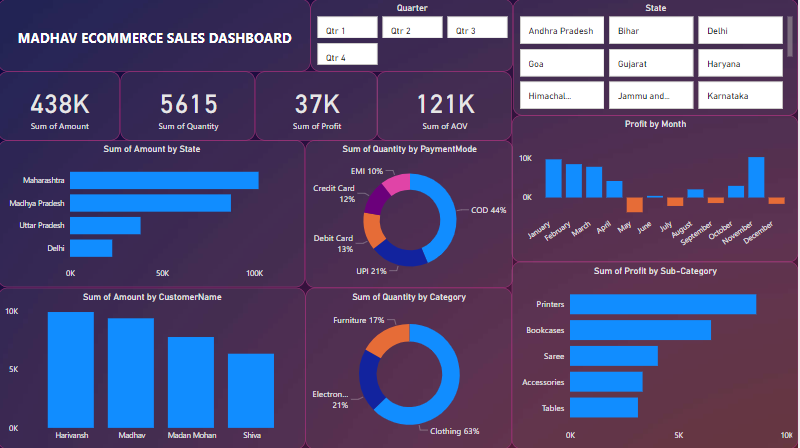

What the dashboard file says about the page in this screenshot:
{"tool":"powerbi","page":{"name":"Page 1","canvas":[1280,720],"ordinal":0},"visuals":[{"type":"textbox","box":[0,0,500,116],"z":0},{"type":"columnChart","title":"Profit by Month","fields":{"Category":["Orders.Order Date.Variation.Date Hierarchy.Month"],"Y":["Details.Profit"]},"box":[821.2,185,458.8,235],"z":1000},{"type":"barChart","fields":{"Category":["Details.Sub-Category"],"Y":["Details.Profit"]},"box":[821.7,420,458.3,300],"z":2000},{"type":"donutChart","fields":{"Y":["Details.Quantity"],"Category":["Details.PaymentMode"]},"box":[492,226,332,236],"z":3000},{"type":"donutChart","fields":{"Category":["Details.Category"],"Y":["Details.Quantity"]},"box":[492,462,330,258],"z":4000},{"type":"card","fields":{"Values":["Details.Amount"]},"box":[0,115,195,110],"z":5000},{"type":"card","fields":{"Values":["Details.Quantity"]},"box":[195,115,215,110],"z":6000},{"type":"card","fields":{"Values":["Details.Profit"]},"box":[411.7,115,195,110],"z":7000},{"type":"card","fields":{"Values":["Details.AOV"]},"box":[606,116,216,110],"z":8000},{"type":"barChart","fields":{"Y":["Details.Amount"],"Category":["Orders.State"]},"box":[0,226.2,491.2,235],"z":9000},{"type":"columnChart","fields":{"Category":["Orders.CustomerName"],"Y":["Details.Amount"]},"box":[0,462,492,258],"z":10000},{"type":"advancedSlicerVisual","fields":{"Values":["Orders.Order Date.Variation.Date Hierarchy.Quarter"]},"box":[500,0,324,116],"z":11000},{"type":"advancedSlicerVisual","fields":{"Values":["Orders.State"]},"box":[824,0,456,186],"z":12000}]}

Visuals, with their boxes in screenshot pixels (x1, y1, x2, y2), scaled from the page's 1280x720 canvas onto the 800x448 screenshot:
textbox: bbox=(0, 0, 312, 72)
"Profit by Month" columnChart: bbox=(513, 115, 799, 261)
barChart - Details.Sub-Category x Details.Profit: bbox=(514, 261, 799, 447)
donutChart - Details.Quantity x Details.PaymentMode: bbox=(308, 141, 515, 287)
donutChart - Details.Category x Details.Quantity: bbox=(308, 287, 514, 447)
card - Details.Amount: bbox=(0, 72, 122, 140)
card - Details.Quantity: bbox=(122, 72, 256, 140)
card - Details.Profit: bbox=(257, 72, 379, 140)
card - Details.AOV: bbox=(379, 72, 514, 141)
barChart - Details.Amount x Orders.State: bbox=(0, 141, 307, 287)
columnChart - Orders.CustomerName x Details.Amount: bbox=(0, 287, 308, 447)
advancedSlicerVisual - Orders.Order Date.Variation.Date Hierarchy.Quarter: bbox=(312, 0, 515, 72)
advancedSlicerVisual - Orders.State: bbox=(515, 0, 799, 116)
